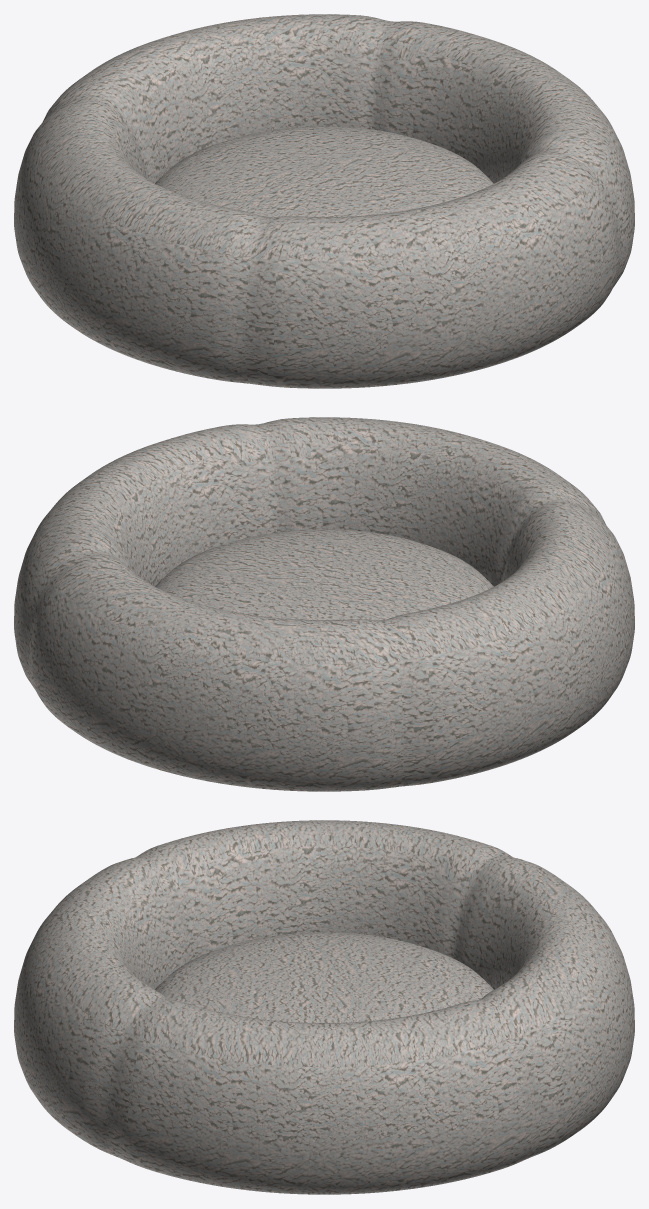
File: cat-bed.glb
The picture shows the model from 3 angles, top to bottom: view 1: azimuth 30°, elevation 25°; view 2: azimuth 150°, elevation 25°; view 3: azimuth 270°, elevation 25°; orthographic projection.
Parts seen in each view (by area): view 1: Continuous four-panel padded rim__asset.001; view 2: Continuous four-panel padded rim__asset.001; view 3: Continuous four-panel padded rim__asset.001.
Boxes of the visible parts, <box> form: Continuous four-panel padded rim__asset.001: <box>14,14,634,388</box>; Continuous four-panel padded rim__asset.001: <box>14,417,634,791</box>; Continuous four-panel padded rim__asset.001: <box>14,820,634,1194</box>.
Bounding box in the file's own units: 0.7846 × 0.2175 × 0.7846.
Materials: 2 (1 with a texture image).
